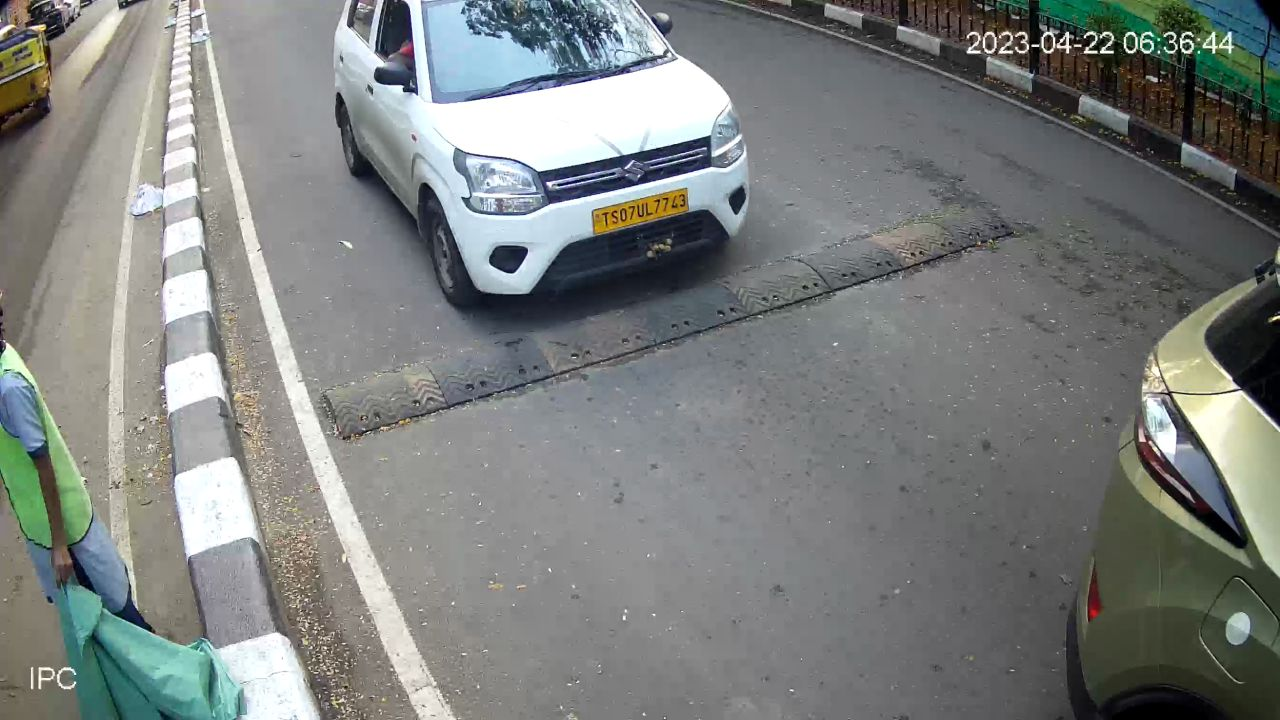license_plate: (582, 178, 695, 249)
